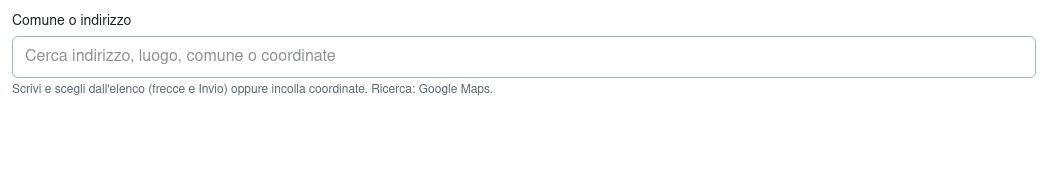
Test: campo Comune o indirizzo › senza risultati avvisa e lascia scrivere il comune a mano
Type "xyzxyz" into the dropdown at (524, 57), box [12,36,1036,78]
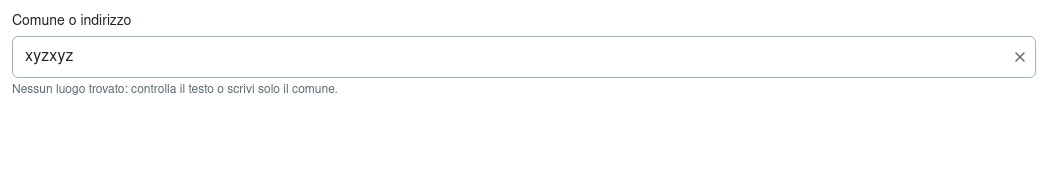
expect the text "Nessun luogo trovato: controlla il testo o scrivi solo il comune." is shown: met, box [12,84,338,96]
